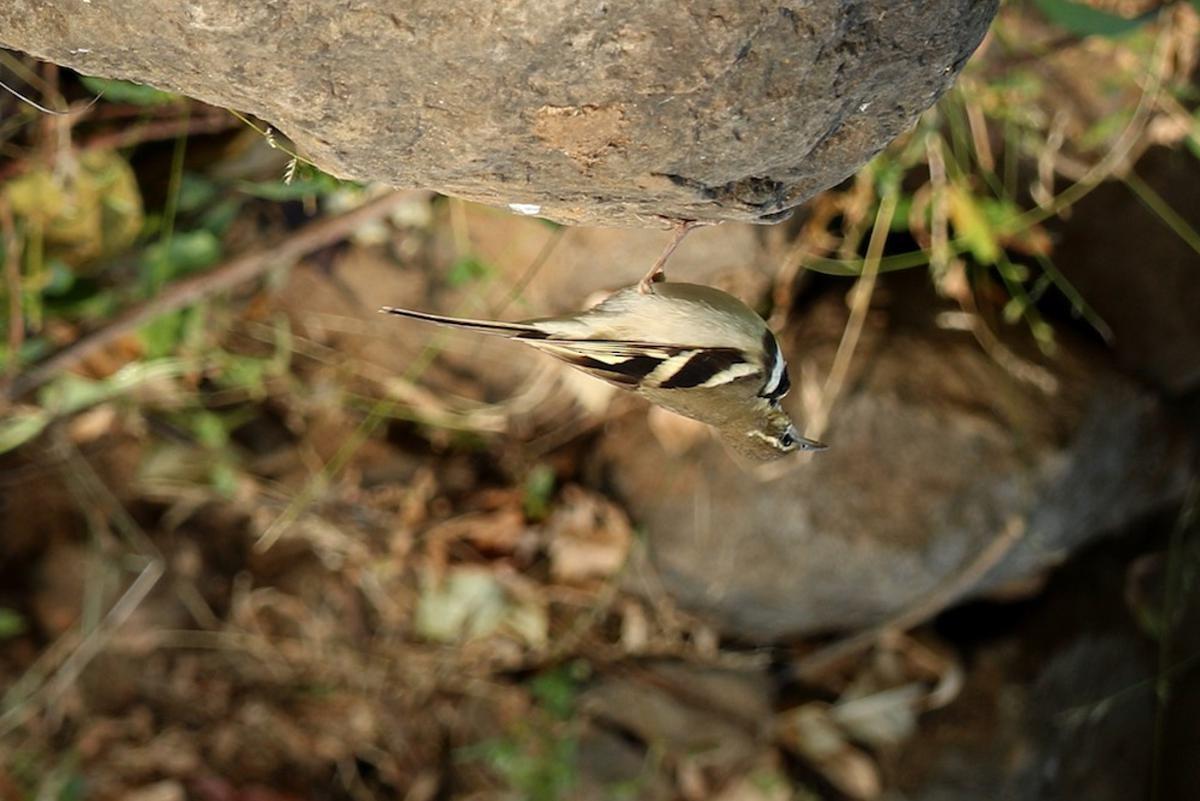wagtail: (446, 230, 848, 483)
